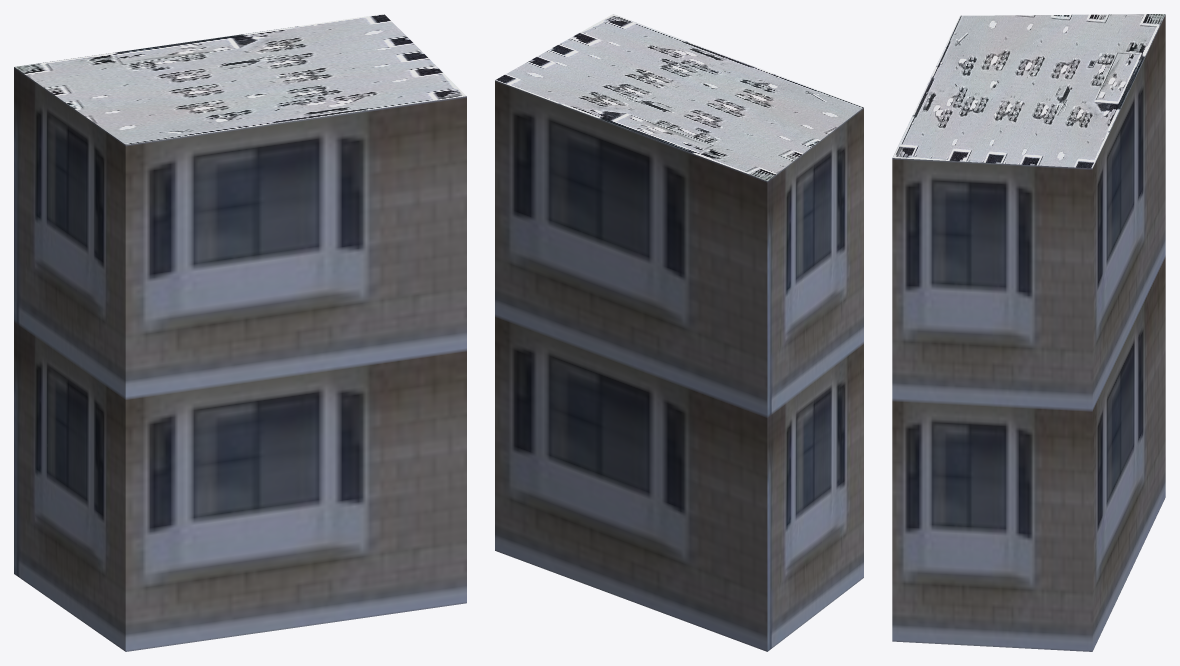
File: ResTex__2658.fbx
3 views of the same model, side by side, from view 1: azimuth 30°, elevation 25°; view 2: azimuth 150°, elevation 25°; view 3: azimuth 270°, elevation 25° (orthographic). The views are drawn at different scales.
Visible parts, largest first — view 1: CityEngineMaterial_3_m, CityEngineMaterial_4_m; view 2: CityEngineMaterial_3_m, CityEngineMaterial_4_m; view 3: CityEngineMaterial_3_m, CityEngineMaterial_4_m.
Boxes of the visible parts, x1,y1,x2,y2 form: CityEngineMaterial_3_m: (14, 67, 466, 651); CityEngineMaterial_4_m: (14, 14, 466, 144); CityEngineMaterial_3_m: (495, 80, 863, 651); CityEngineMaterial_4_m: (495, 14, 863, 181); CityEngineMaterial_3_m: (892, 14, 1165, 651); CityEngineMaterial_4_m: (892, 14, 1165, 168).
Size of the model in its own units: 4.11 by 6 by 3.07.
2 materials, 2 textured.
